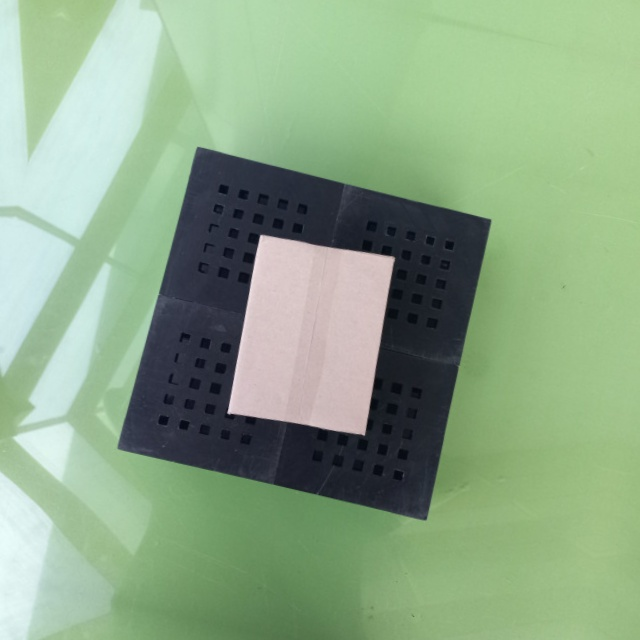box: (229, 231, 398, 444)
pallet: (107, 131, 509, 532)
